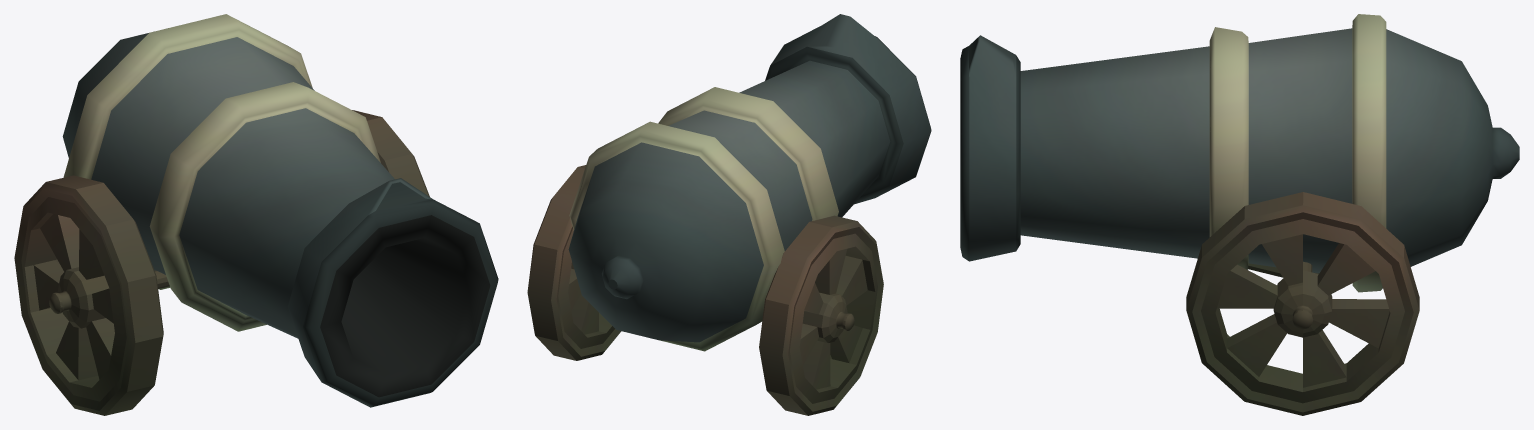
The model's file is Cannon.fbx.
3 renders of one model, left to right at view 1: azimuth 30°, elevation 25°; view 2: azimuth 150°, elevation 25°; view 3: azimuth 270°, elevation 25°, orthographic. The views are drawn at different scales.
Parts seen in each view (by area): view 1: Cannon; view 2: Cannon; view 3: Cannon.
Part boxes in pixels (x1,y1,x2,y2): Cannon: [14, 14, 498, 415]; Cannon: [527, 14, 931, 415]; Cannon: [960, 14, 1519, 415].
Bounding box in the file's own units: 174 × 153 × 248.
